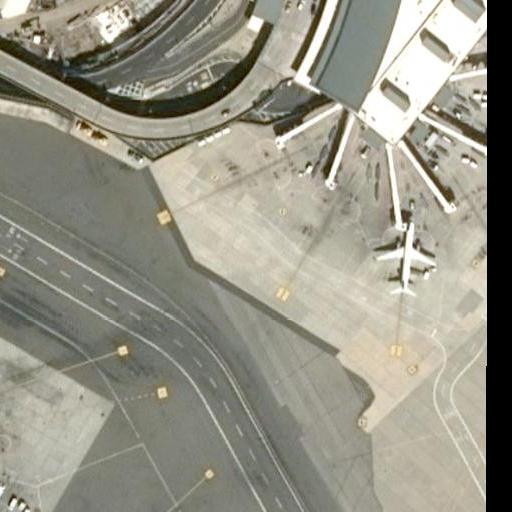Aircraft: (372, 214, 434, 294)
